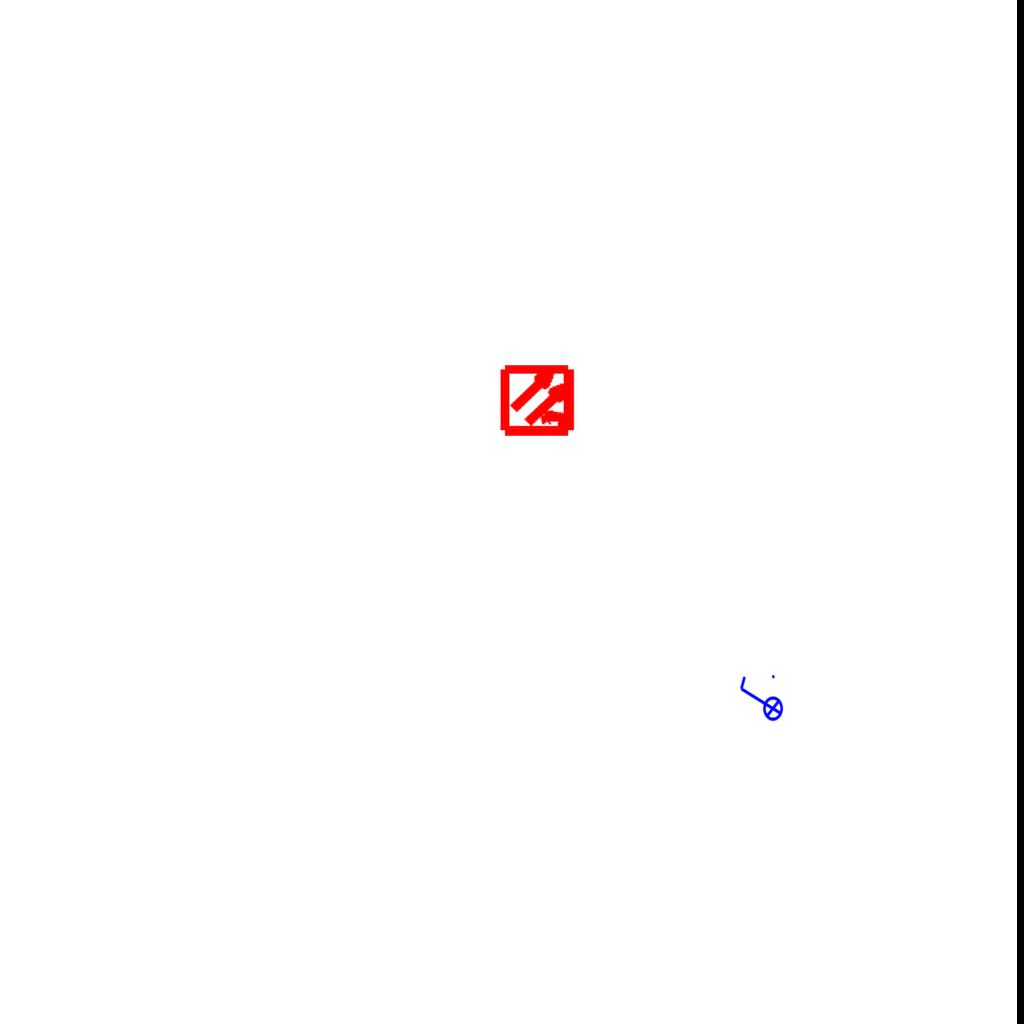Ausschalter_beleuchtet: (736, 672, 784, 728)
OT_Multisensormelder_(Kombination_RMO_WMD): (483, 344, 596, 457)
